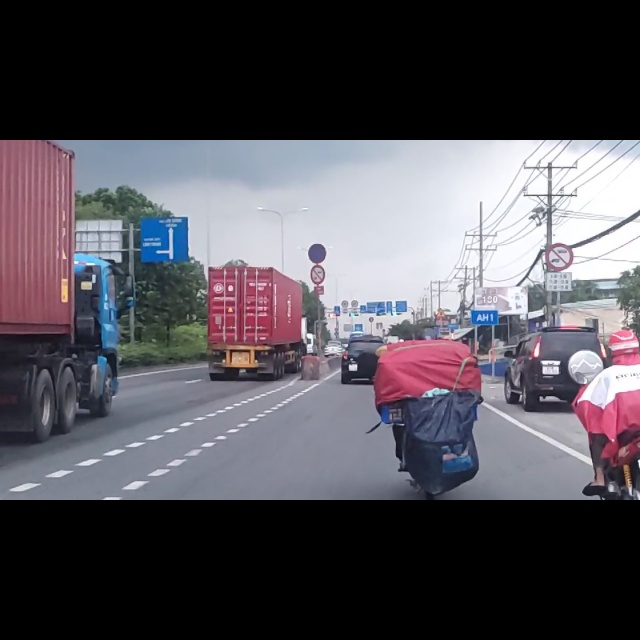bien_nguy_hiem: (546, 183, 573, 232), (308, 184, 327, 219), (311, 223, 325, 256)
